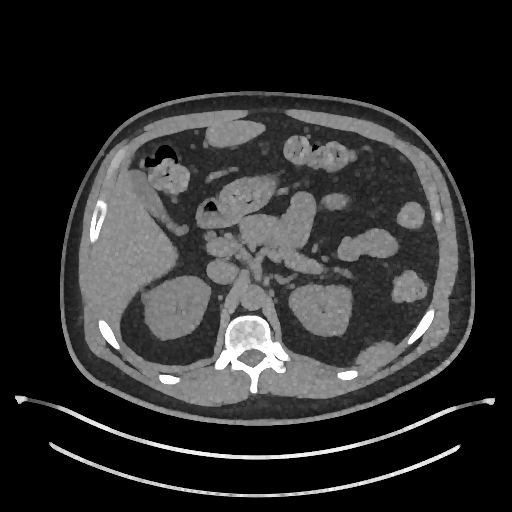Lesion: (137, 287, 154, 308)
